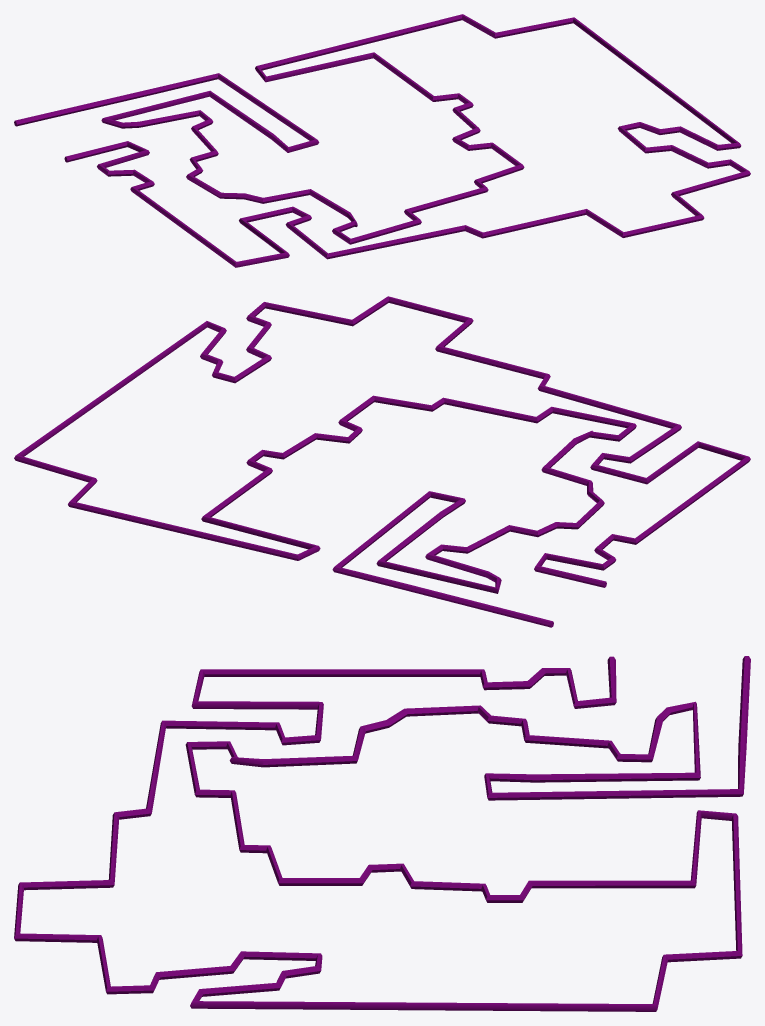
File: Solver.fbx
The picture shows the model from 3 angles, top to bottom: view 1: azimuth 30°, elevation 25°; view 2: azimuth 150°, elevation 25°; view 3: azimuth 270°, elevation 25°; orthographic projection. The views are drawn at different scales.
Parts seen in each view (by area): view 1: Sweep.2; view 2: Sweep.2; view 3: Sweep.2.
Part boxes in pixels (bbox=[...]): Sweep.2: bbox=[14, 14, 750, 267]; Sweep.2: bbox=[14, 296, 750, 627]; Sweep.2: bbox=[14, 656, 750, 1011].
Size of the model in its own units: 1987 by 17.32 by 1768.
